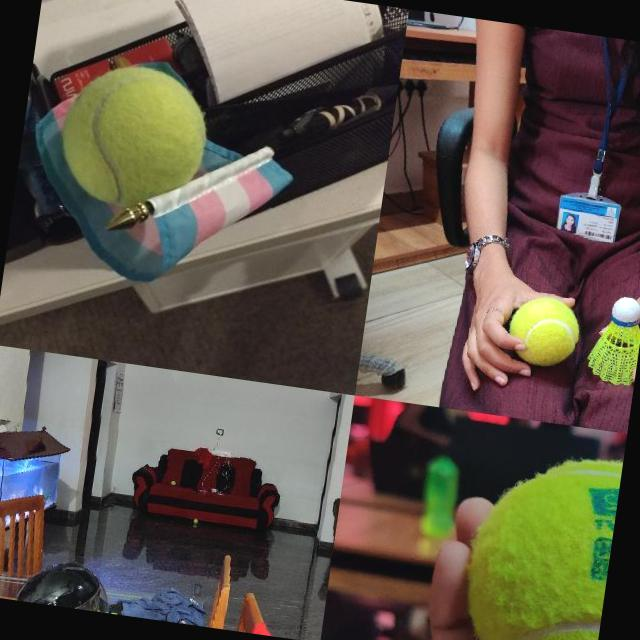Tennis Ball: (457, 444, 623, 640), (58, 57, 217, 177), (507, 294, 584, 370), (170, 480, 177, 486), (194, 518, 200, 524)
